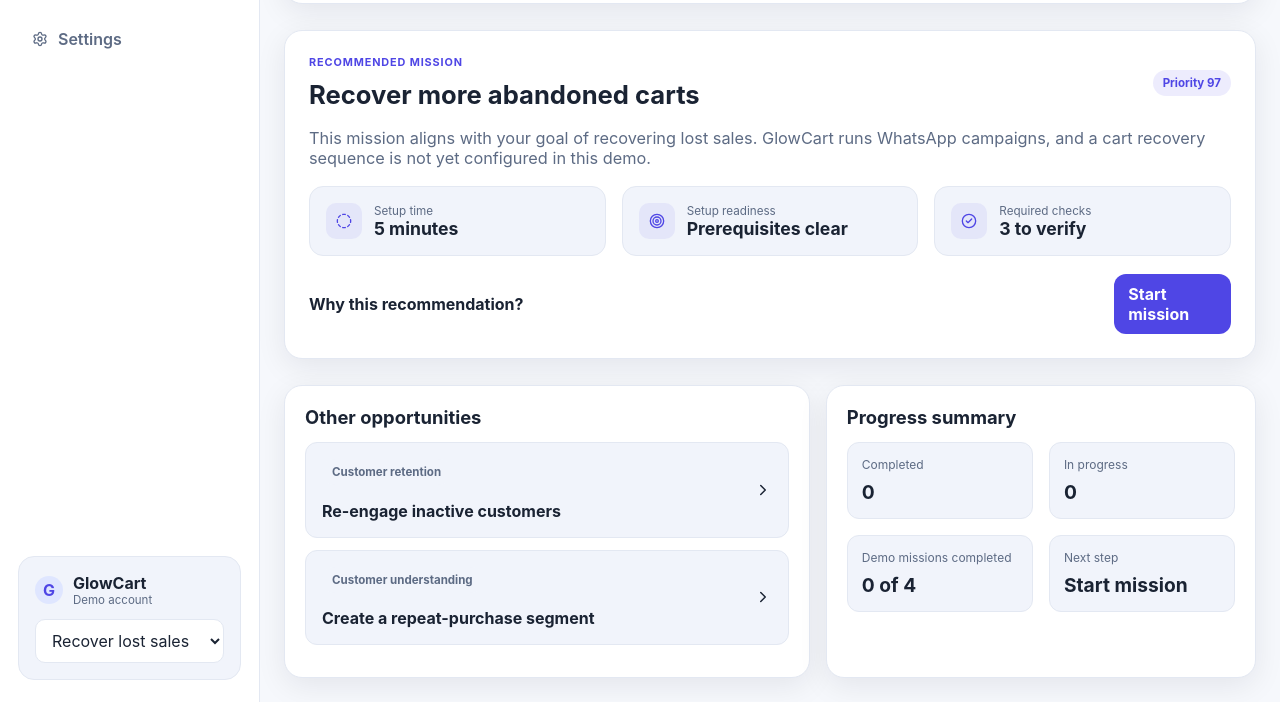
UI smoke tests › keeps the hero and mission catalogue aligned to the selected business goal
(page scrolled)
Select "Improve campaign performance" in the dropdown named "Selected business goal" at (130, 641), box [35,619,224,663]
(page scrolled)
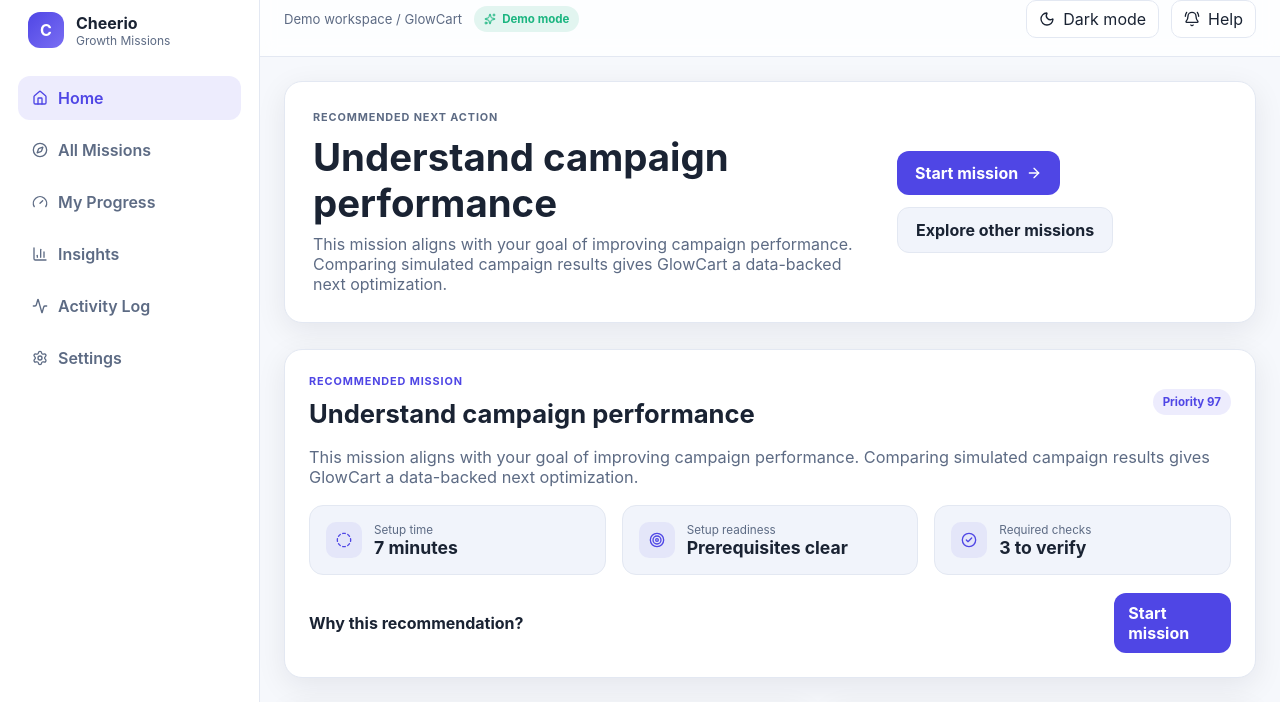
Result: the heading "Understand campaign performance" below "Recommended next action" is shown at [313,134,729,226]
Click the link "All Missions" at (92, 150), box [32,140,151,160]
(page scrolled)
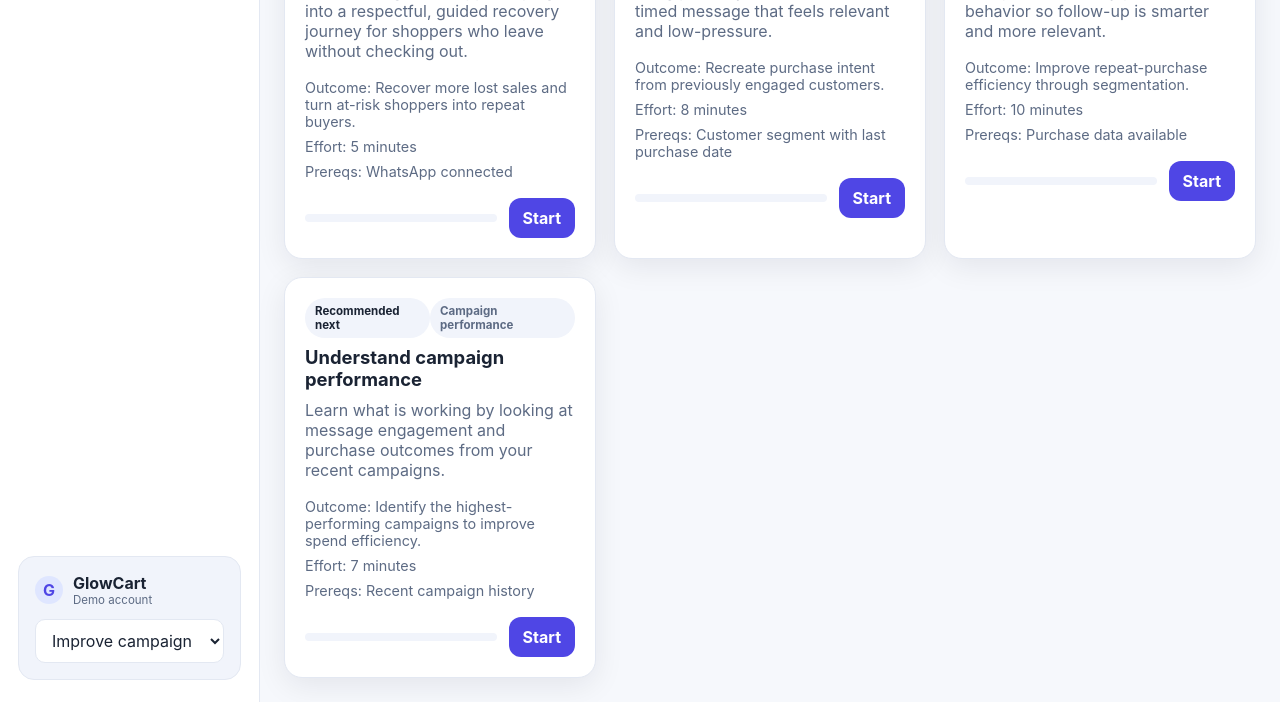
Result: the element "Understand campaign performance" shows "Recommended next" at [315,304,400,332]
